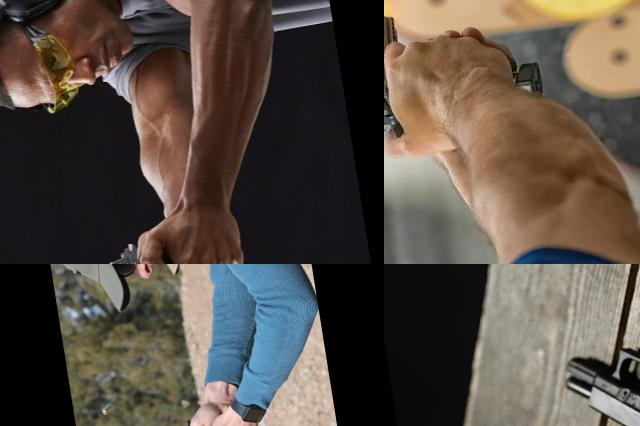handgun: (384, 0, 553, 151), (555, 322, 640, 426), (96, 230, 199, 264), (154, 412, 228, 426)
